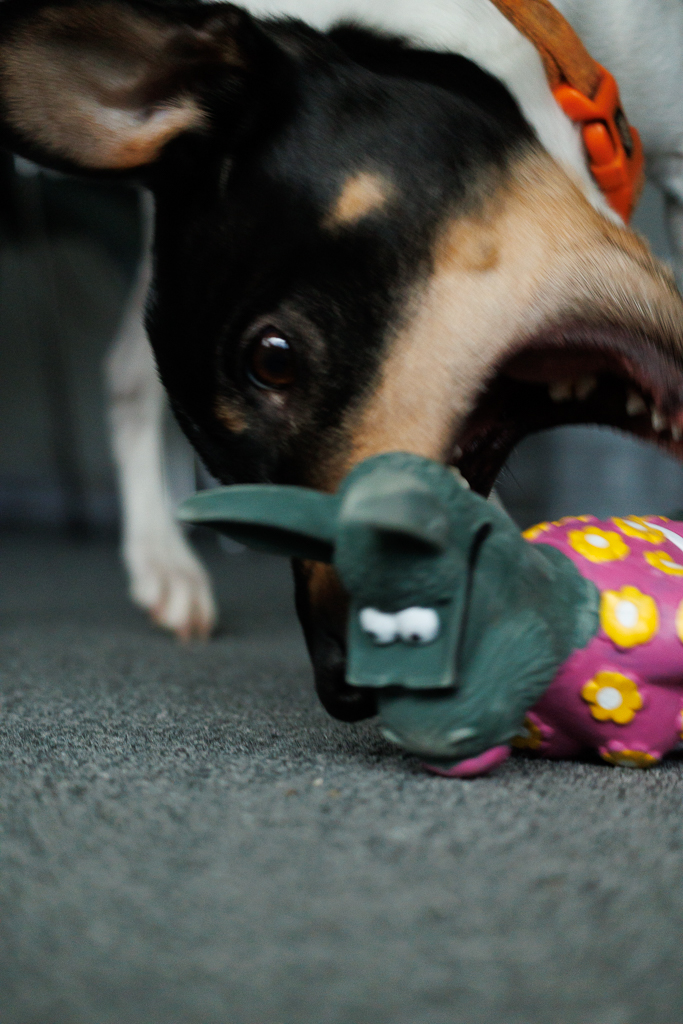Dog: (0, 0, 683, 665)
Humanoid: (149, 431, 683, 791)
